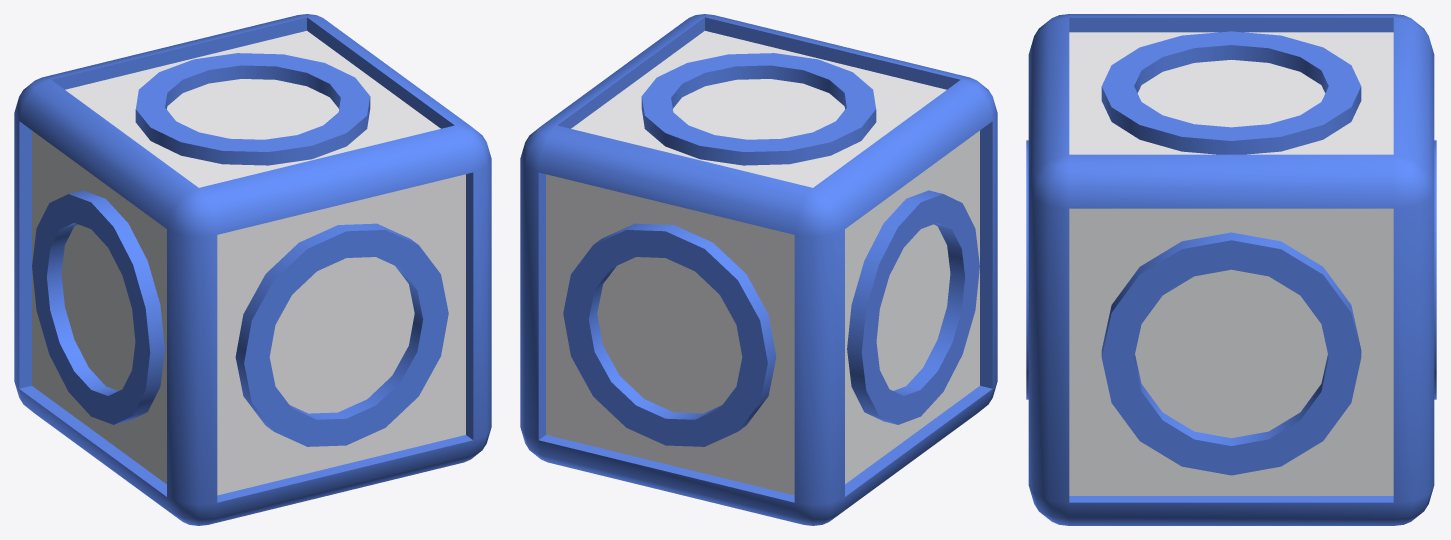
File: CircleBox.fbx
The picture shows the model from 3 angles, left to right: view 1: azimuth 30°, elevation 25°; view 2: azimuth 150°, elevation 25°; view 3: azimuth 270°, elevation 25°; orthographic projection. The views are drawn at different scales.
Parts seen in each view (by area): view 1: ChamferBox001; view 2: ChamferBox001; view 3: ChamferBox001.
Boxes of the visible parts, x1=… form: ChamferBox001: x1=14, y1=14, x2=491, y2=525; ChamferBox001: x1=520, y1=14, x2=997, y2=525; ChamferBox001: x1=1026, y1=14, x2=1436, y2=525.
Bounding box in the file's own units: 102 × 100 × 101.
Materials: 1 (1 with a texture image).
